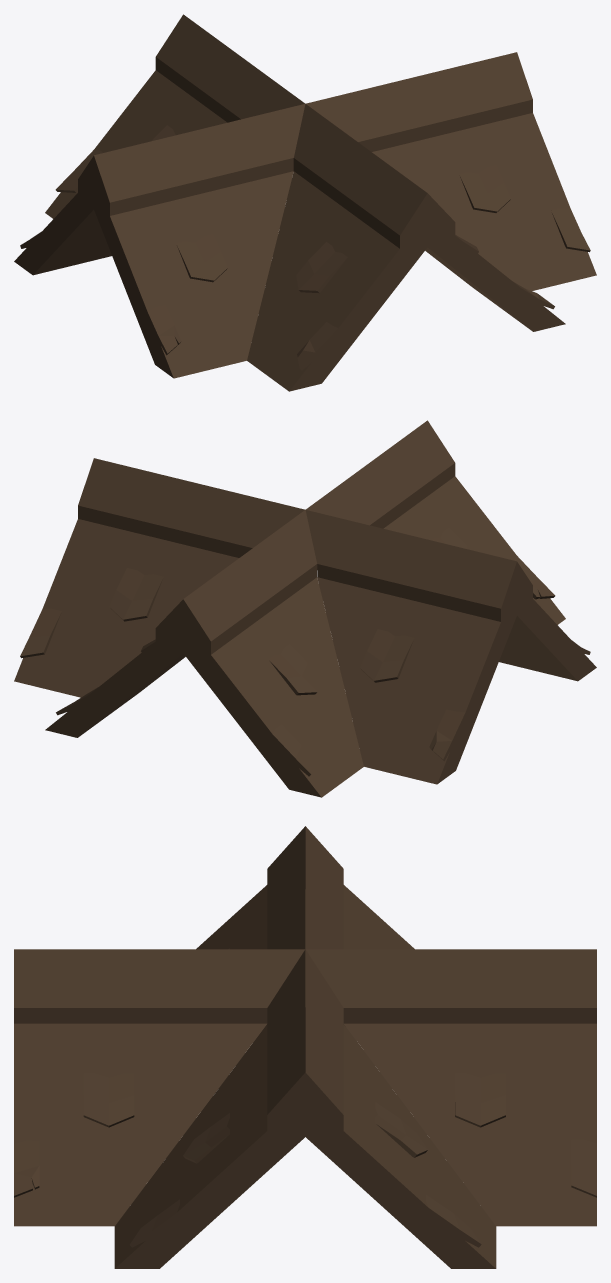
Rendered from buildings-roof-wood-center-top-intersection.glb.
3 renders of one model, top to bottom at view 1: azimuth 30°, elevation 25°; view 2: azimuth 150°, elevation 25°; view 3: azimuth 270°, elevation 25°, orthographic. The views are drawn at different scales.
Visible parts, largest first — view 1: roof-wood-center-top-intersection; view 2: roof-wood-center-top-intersection; view 3: roof-wood-center-top-intersection.
Boxes of the visible parts, bbox=[...] form: roof-wood-center-top-intersection: bbox=[14, 14, 596, 391]; roof-wood-center-top-intersection: bbox=[14, 420, 596, 797]; roof-wood-center-top-intersection: bbox=[14, 826, 596, 1268].
Size of the model in its own units: 6 by 2.23 by 6.
